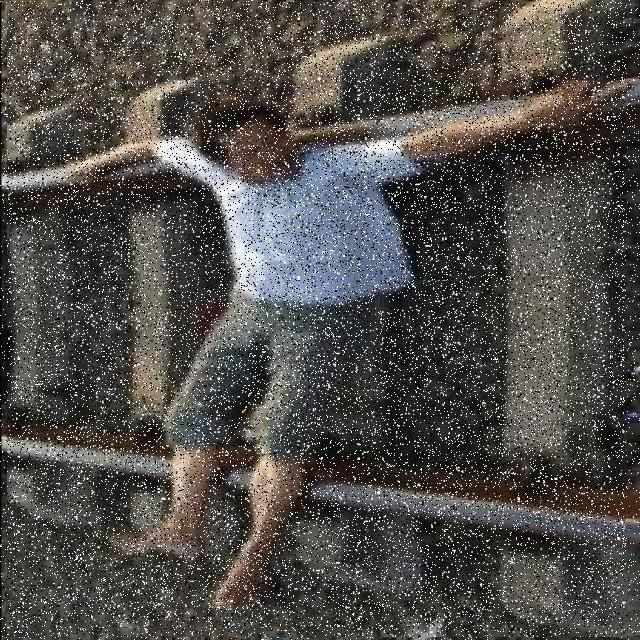danger: (29, 57, 624, 594)
rail: (8, 3, 622, 635)
